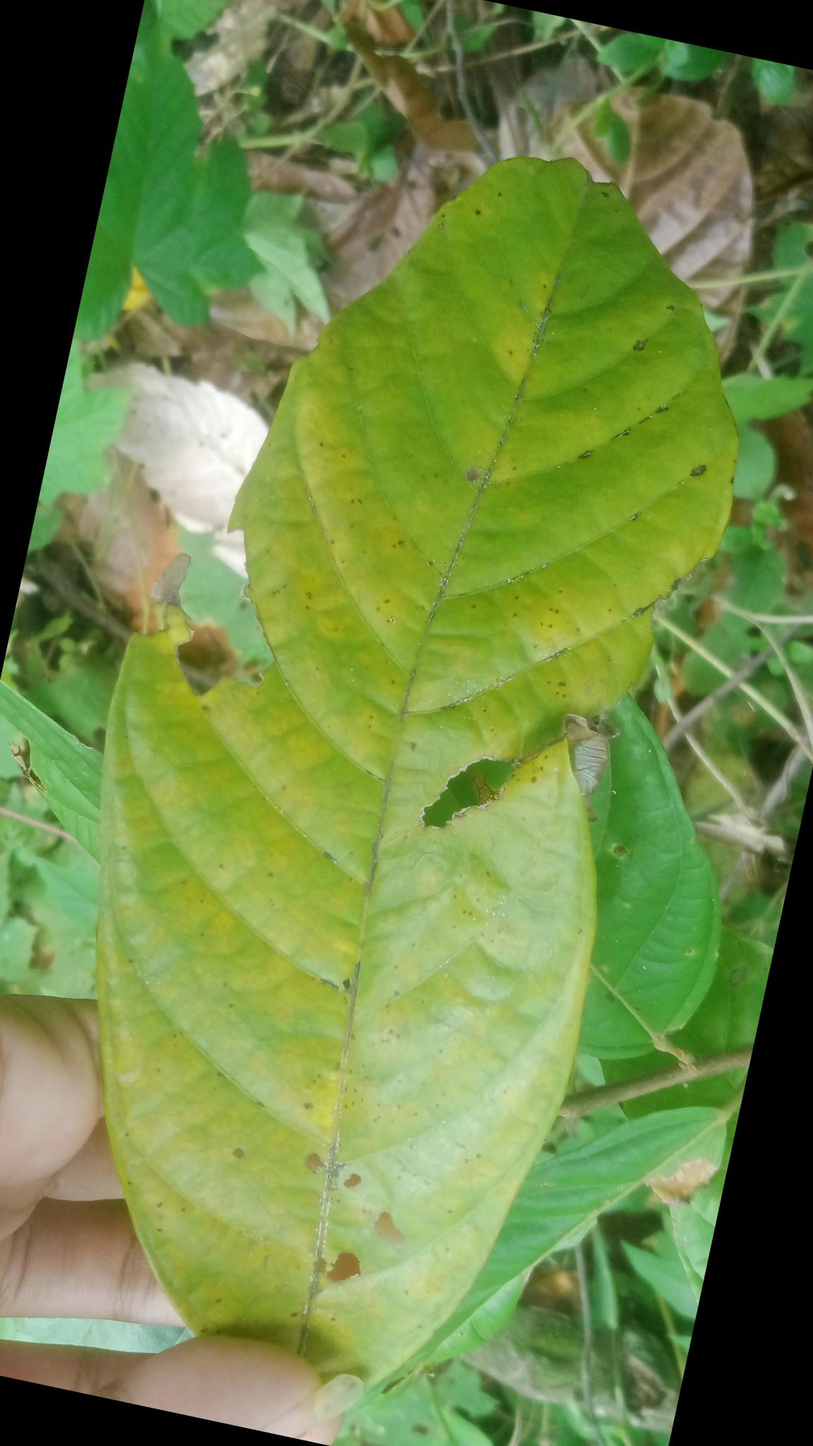Potasio: (81, 131, 750, 1395)
